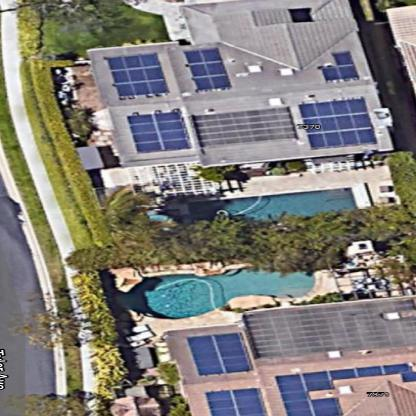pool: (107, 261, 327, 322), (154, 184, 377, 236)
